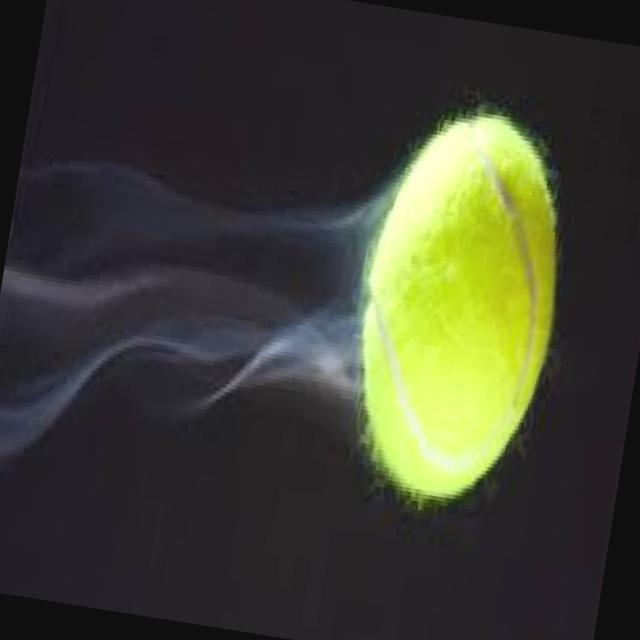Tennis Ball: (358, 117, 558, 503)
